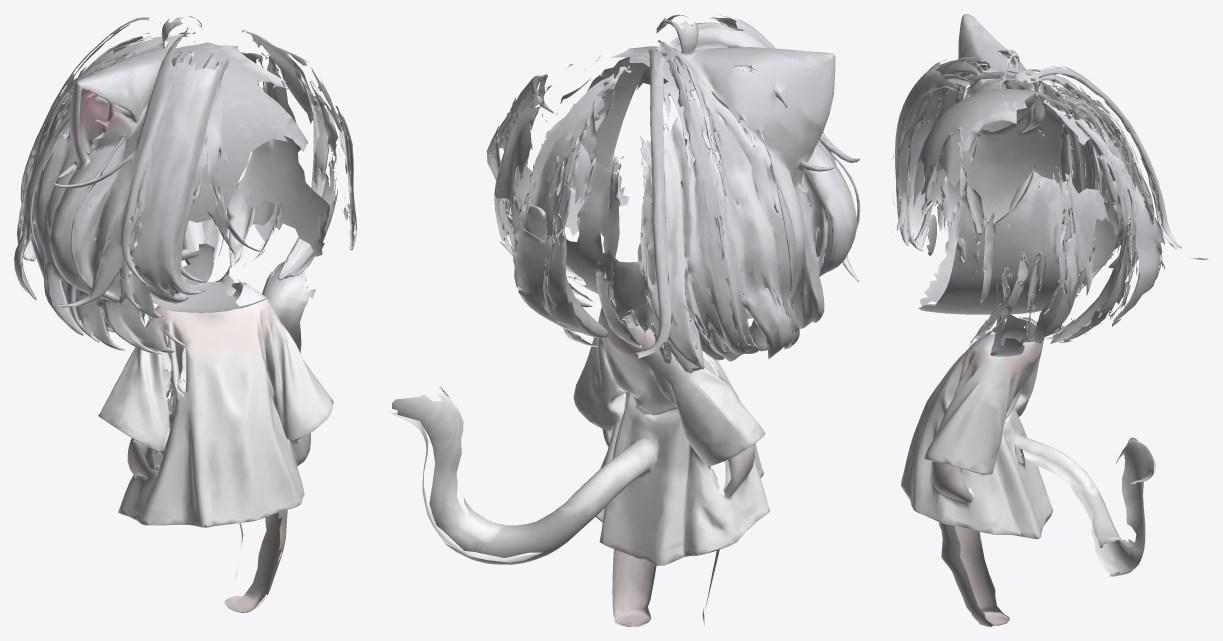
Rendered from trendwear-catgirl-v3.glb.
3 views of the same model, side by side, from view 1: azimuth 30°, elevation 25°; view 2: azimuth 150°, elevation 25°; view 3: azimuth 270°, elevation 25° (orthographic). The views are drawn at different scales.
Parts seen in each view (by area): view 1: trendwear_catgirl; view 2: trendwear_catgirl; view 3: trendwear_catgirl.
Part boxes in pixels (x1,y1,x2,y2): trendwear_catgirl: [14, 16, 356, 612]; trendwear_catgirl: [389, 14, 860, 626]; trendwear_catgirl: [891, 14, 1208, 626].
Size of the model in its own units: 0.6215 by 0.9954 by 0.529.
Materials: 1 (1 with a texture image).
